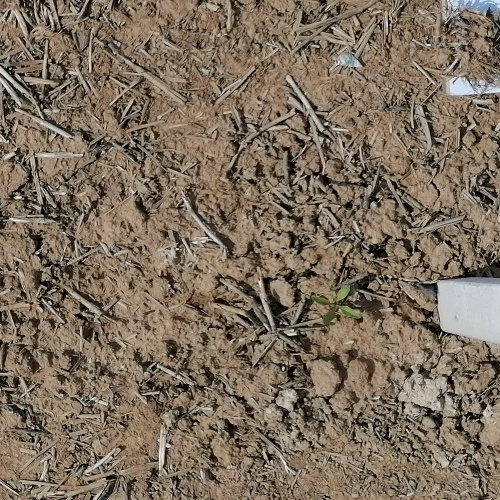beet: (311, 286, 361, 324)
